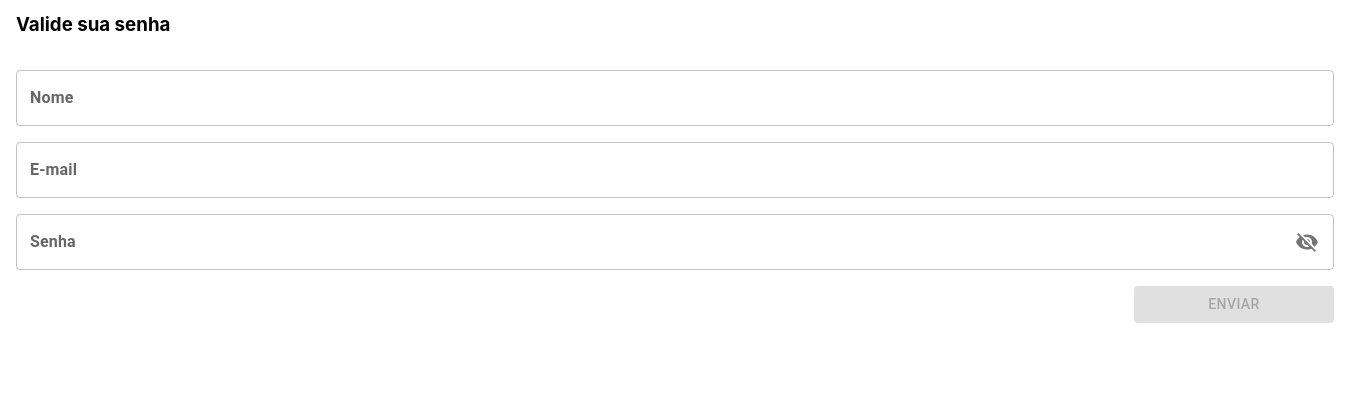
Test: FormPage component › validates password input
Type "222222" into the password field labelled "Senha" at coordinates (650, 242), box [16,214,1284,270]
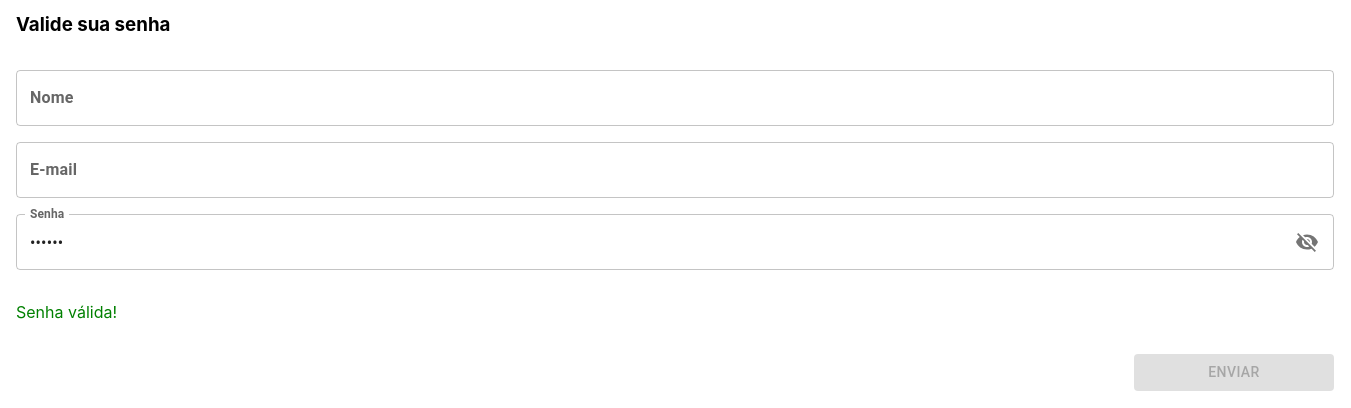
Now the text "Senha válida!" is shown, box [16,302,117,322]
